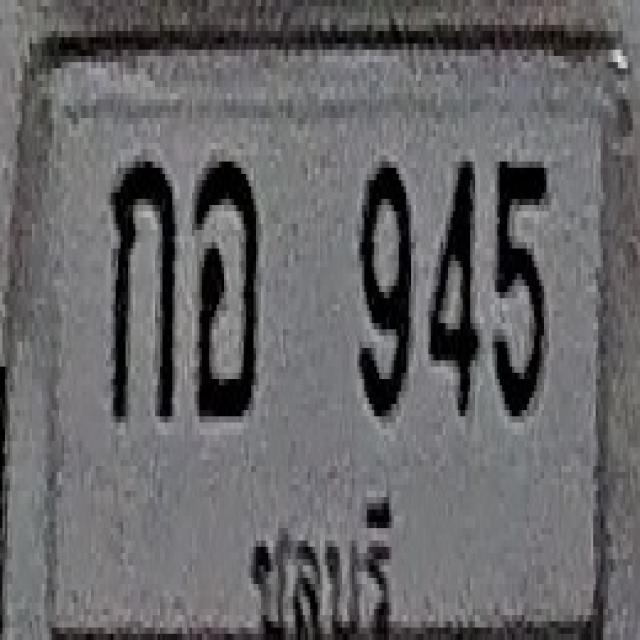4: (428, 156, 478, 417)
5: (493, 156, 548, 417)
9: (358, 156, 410, 417)
A01: (110, 156, 176, 422)
A43: (193, 156, 257, 417)
CBI: (236, 476, 403, 640)
